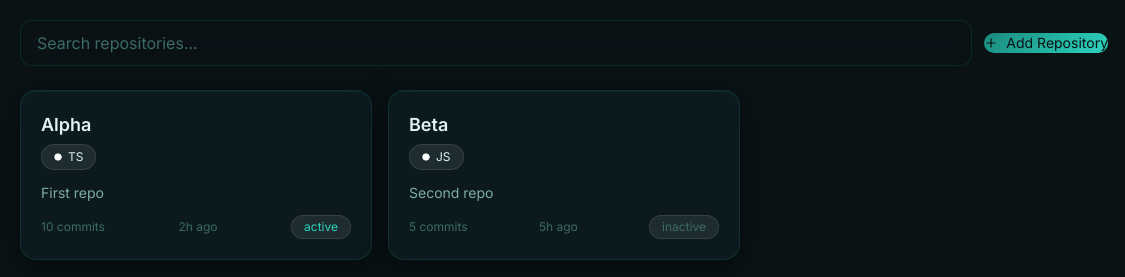
Test: renders and filters repos
Expected: the heading "Alpha" is shown, x1=41 y1=114 x2=91 y2=135
Type "beta" into the field with placeholder "Search repositories..." at (496, 43), box x1=20 y1=20 x2=972 y2=66
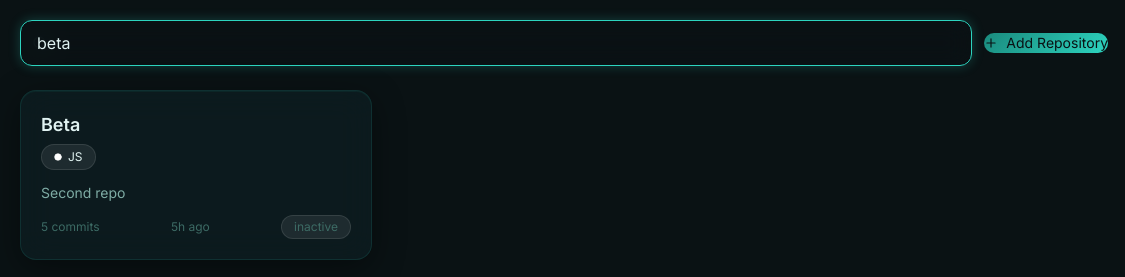
Expected: the heading "Beta" is shown, x1=41 y1=114 x2=80 y2=135
Expected: the link "Alpha" is gone
